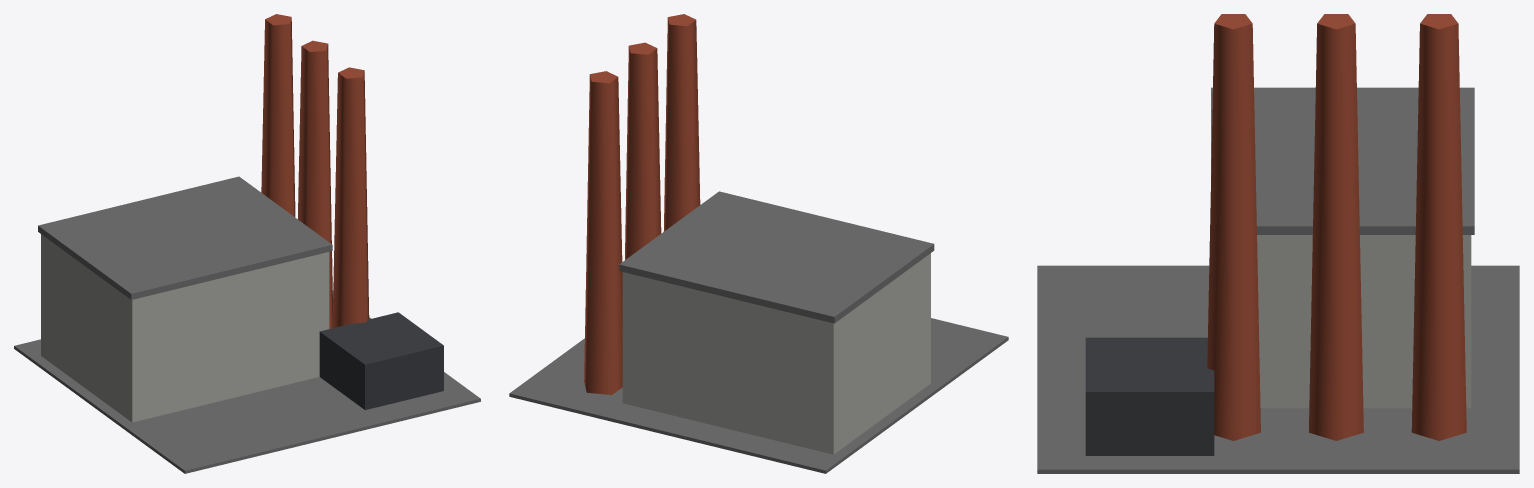
File: bld_special_power_plant_a06_lod2.glb
3 renders of one model, left to right at view 1: azimuth 30°, elevation 25°; view 2: azimuth 150°, elevation 25°; view 3: azimuth 270°, elevation 25°, orthographic. The views are drawn at different scales.
Parts seen in each view (by area): view 1: body; view 2: body; view 3: body.
Part boxes in pixels (x1,y1,x2,y2): body: [14, 14, 480, 473]; body: [509, 14, 1008, 473]; body: [1037, 14, 1519, 473].
Bounding box in the file's own units: 15 × 14.15 × 15.
